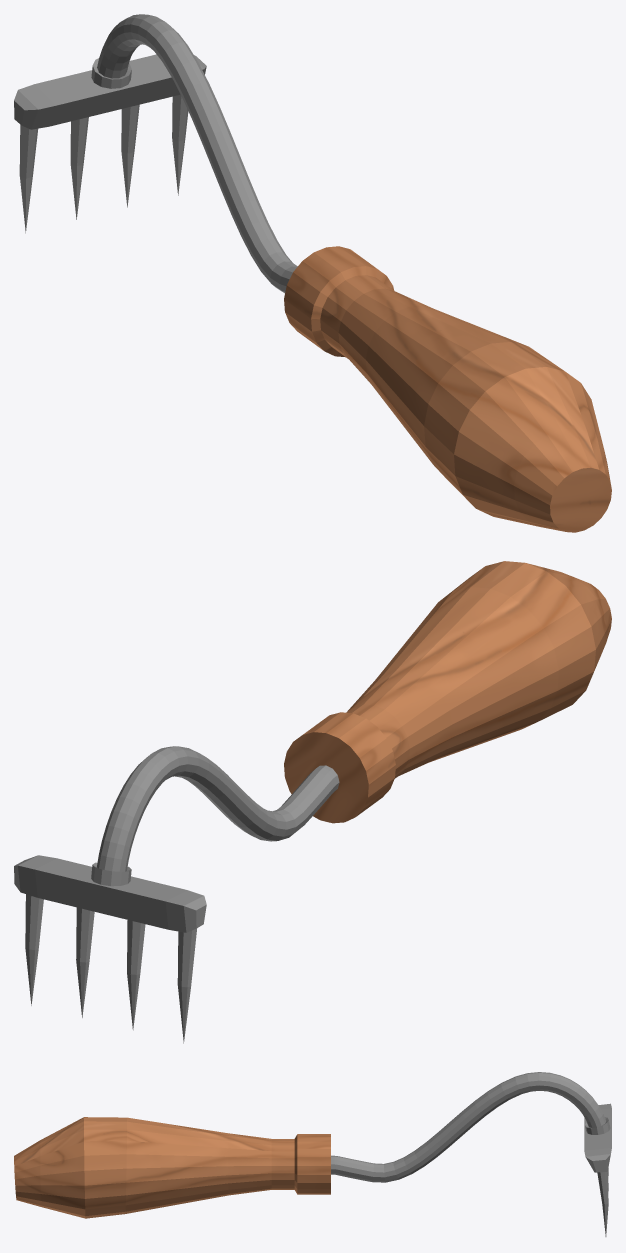
File: HandRake.fbx
3 views of the same model, one above another, from view 1: azimuth 30°, elevation 25°; view 2: azimuth 150°, elevation 25°; view 3: azimuth 270°, elevation 25° (orthographic). The views are drawn at different scales.
Parts seen in each view (by area): view 1: BezierCurve.001; view 2: BezierCurve.001; view 3: BezierCurve.001.
Boxes of the visible parts, <box> form: BezierCurve.001: <box>14,14,611,532</box>; BezierCurve.001: <box>14,561,611,1043</box>; BezierCurve.001: <box>14,1072,611,1236</box>.
Size of the model in its own units: 13.02 by 15.85 by 59.65.
